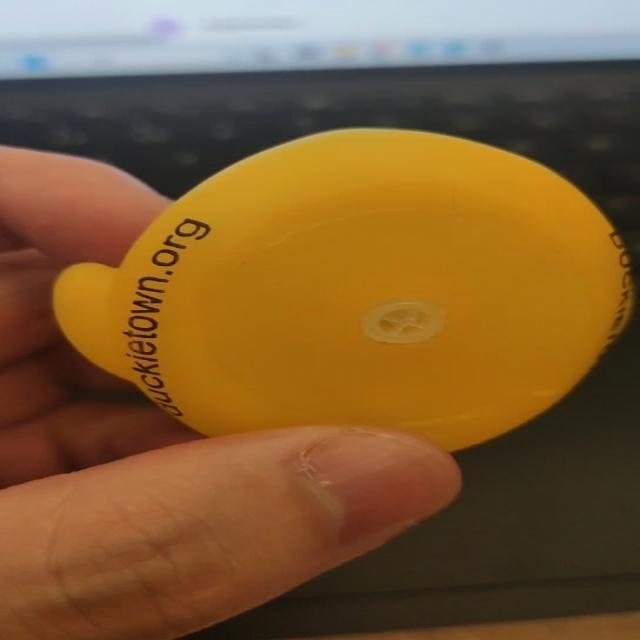rubber-duck: (52, 128, 630, 449)
